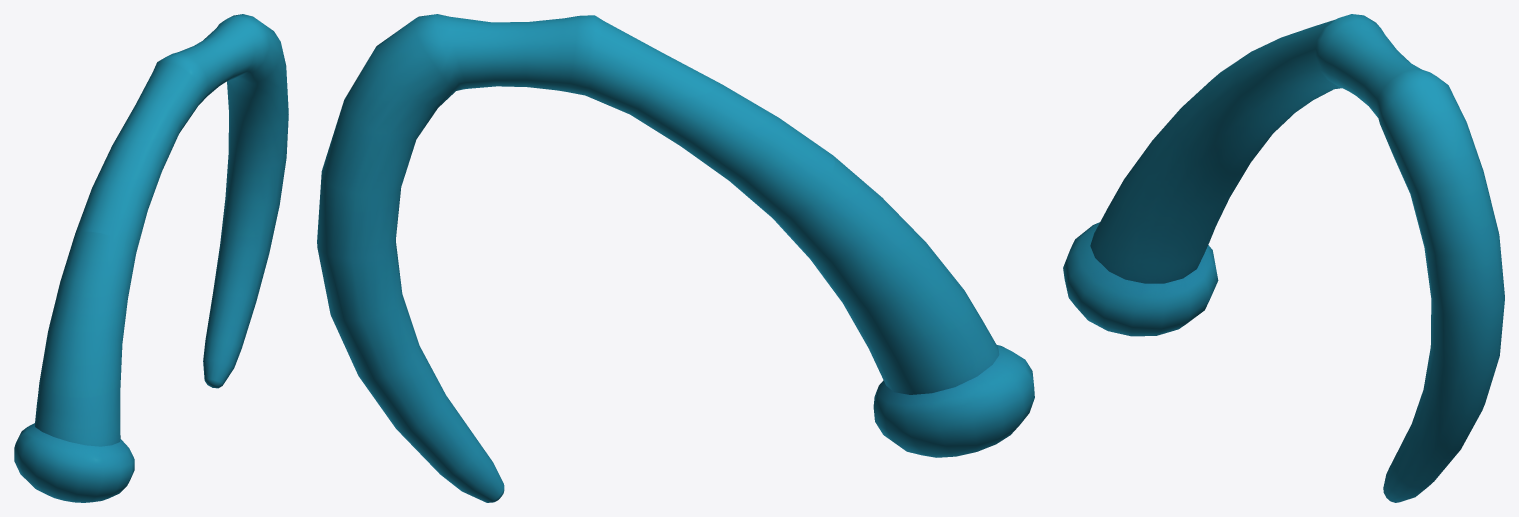
File: DX_CHUNGBOGUI_ACC_L.FBX
3 views of the same model, side by side, from view 1: azimuth 30°, elevation 25°; view 2: azimuth 150°, elevation 25°; view 3: azimuth 270°, elevation 25° (orthographic). The views are drawn at different scales.
Parts seen in each view (by area): view 1: CHG_Tail; view 2: CHG_Tail; view 3: CHG_Tail.
Boxes of the visible parts, box(x1,y1,x2,y2) form: CHG_Tail: box(14, 14, 288, 502); CHG_Tail: box(317, 14, 1034, 502); CHG_Tail: box(1063, 14, 1504, 502).
Bounding box in the file's own units: 8.53 × 7.46 × 6.62.
